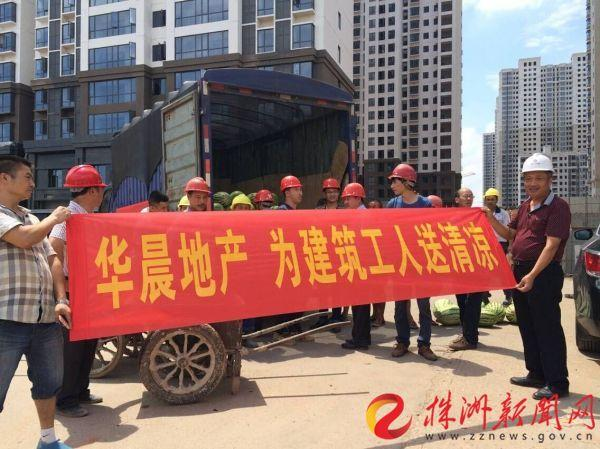helmet: (63, 165, 109, 189), (523, 153, 556, 176), (389, 165, 418, 183), (186, 178, 213, 195), (281, 176, 304, 195), (342, 184, 366, 200), (232, 194, 254, 210), (255, 190, 275, 204), (322, 178, 342, 192), (428, 196, 444, 209), (485, 188, 500, 199), (179, 196, 191, 208)
